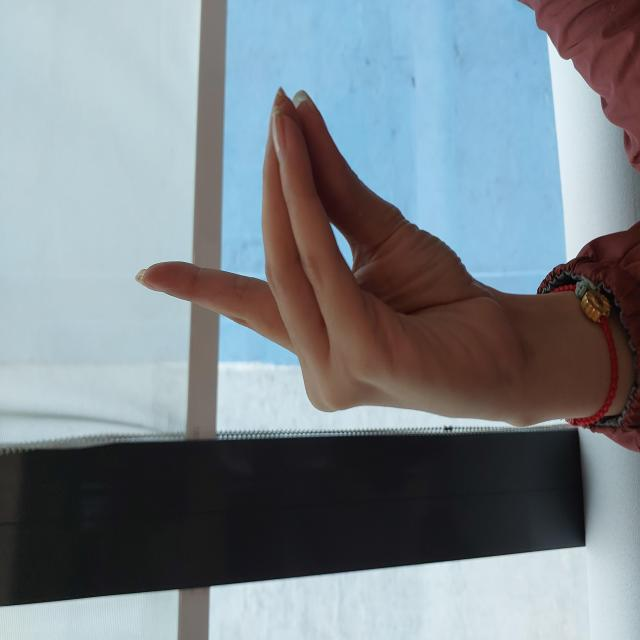D: (215, 133, 550, 517)
